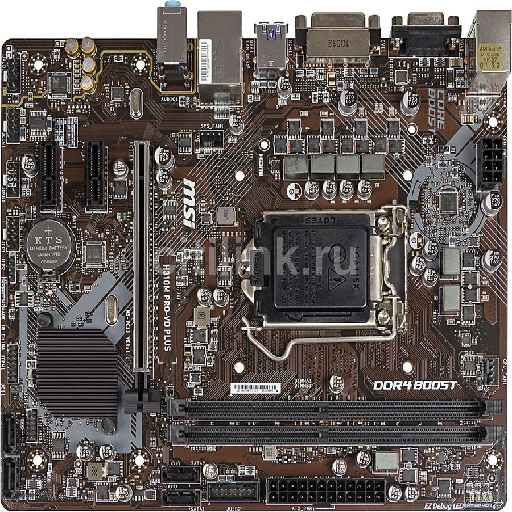CPU: (243, 204, 408, 338)
GPU: (122, 141, 164, 414)
MOTHERBOARD: (1, 4, 510, 512)
RAM: (170, 396, 503, 443)
